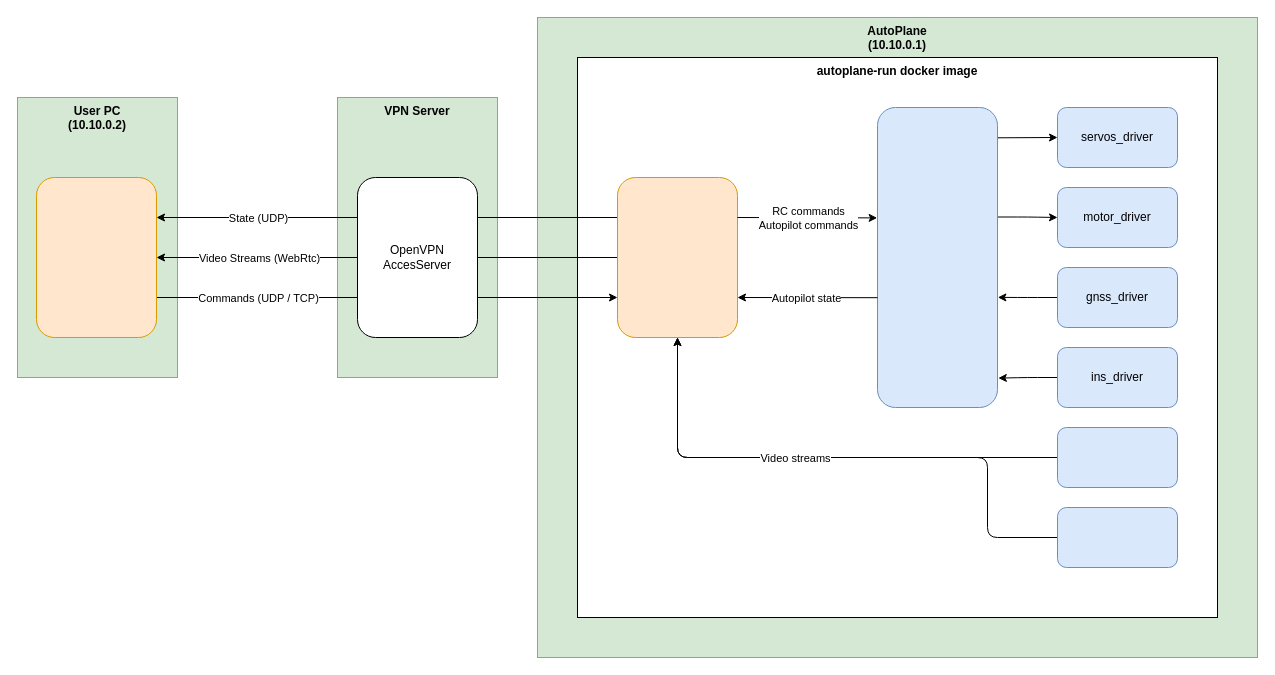
Image size: 1275x675. Some labels were removed from this diagram. The shapes that lost their labels are listed below. From the top down, each one's centre as x and y in pixels, then its label:
At (96,257): "autoplane-hmi".
At (677,257): "hmi_bridge".
At (937,257): "autopilot".
At (1117,457): "camera_1_driver".
At (1117,537): "camera_2_driver".
